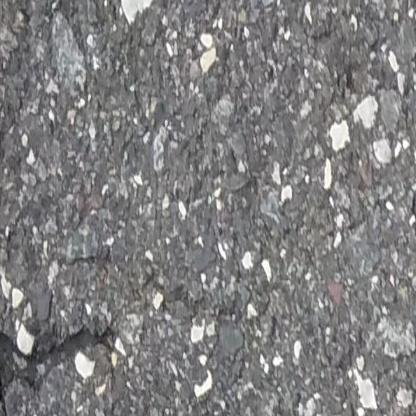Cracks: (0, 326, 120, 416)
